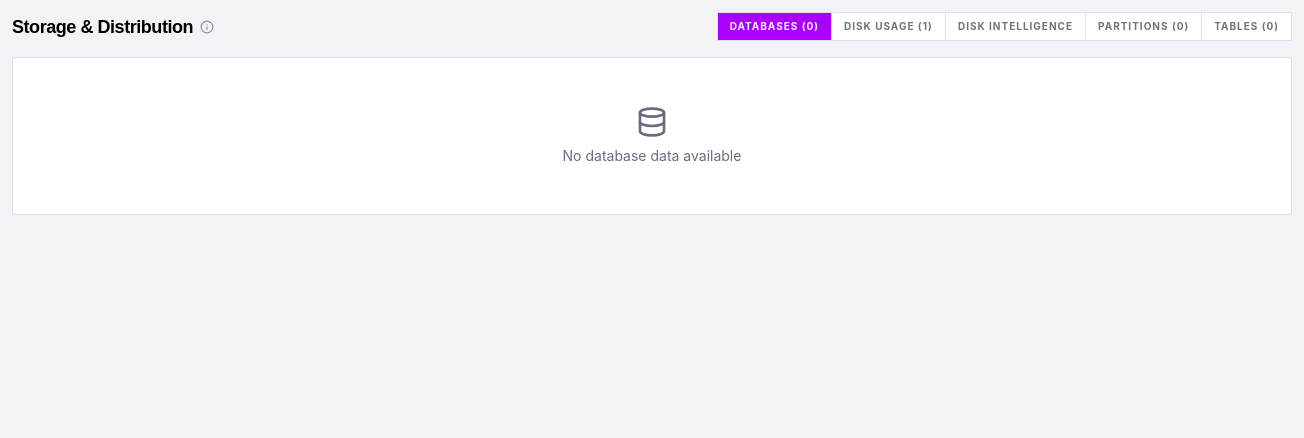
Test: StorageDistribution › does not crash when database_disk_usage arrives as {rows: [...]}
Click the button with test id "storage-tab-disk": x=889, y=26 x1=832 y1=13 x2=946 y2=40
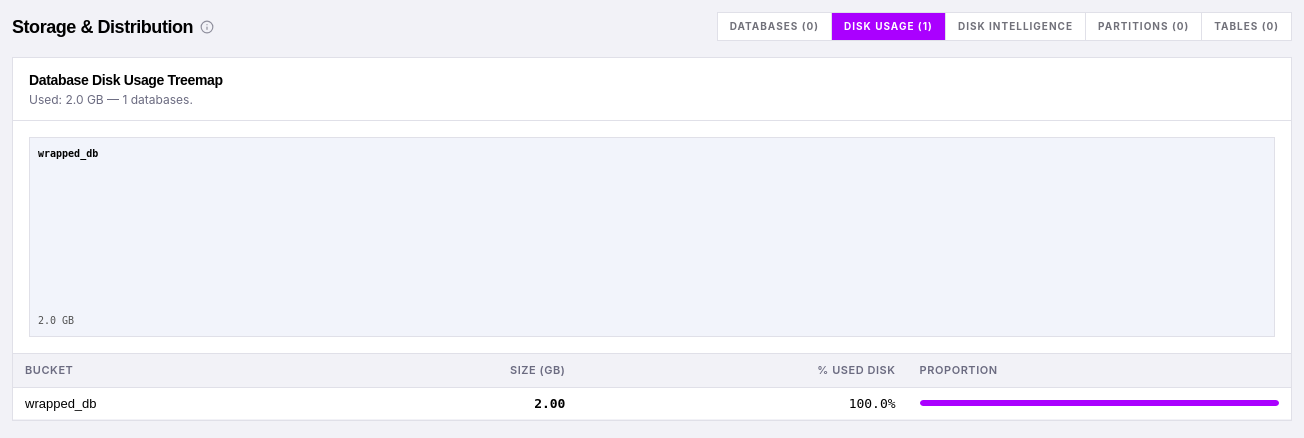
Check: the table with test id "disk-usage-table" shows "wrapped_db", box x1=25 y1=396 x2=97 y2=410
